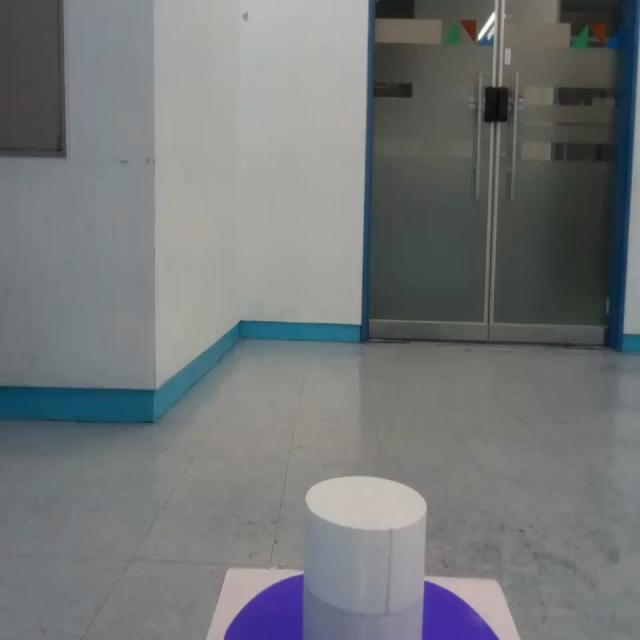cylinder: (302, 476, 428, 639)
